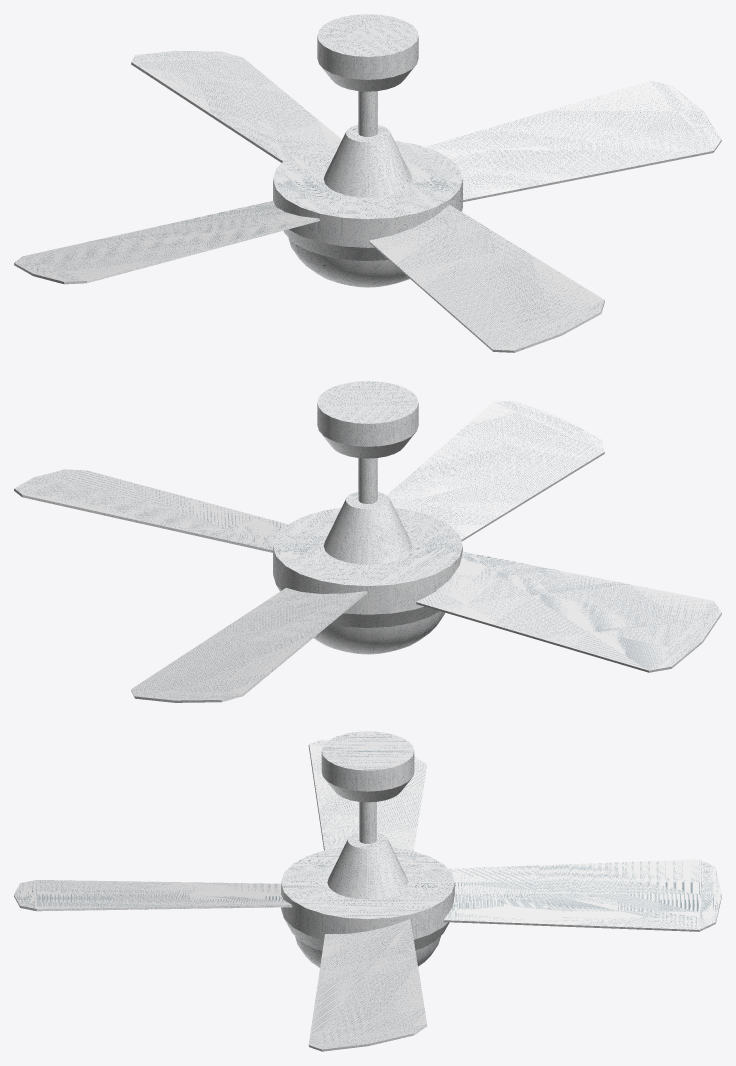
The picture shows the model from 3 angles, top to bottom: view 1: azimuth 30°, elevation 25°; view 2: azimuth 150°, elevation 25°; view 3: azimuth 270°, elevation 25°; orthographic projection. The views are drawn at different scales.
Parts seen in each view (by area): view 1: Group_108 (×4), group_1 (×4), group_0; view 2: Group_108 (×4), group_1 (×4), group_0; view 3: Group_108 (×4), group_1 (×4), group_0.
Boxes of the visible parts, x1,y1,x2,y2 form: Group_108 (×4): [14, 50, 721, 352]; group_1 (×4): [273, 14, 462, 260]; group_0: [288, 238, 409, 287]; Group_108 (×4): [14, 401, 721, 702]; group_1 (×4): [273, 381, 462, 627]; group_0: [313, 611, 444, 654]; Group_108 (×4): [14, 739, 721, 1051]; group_1 (×4): [281, 731, 454, 950]; group_0: [295, 936, 440, 967].
Size of the model in its own units: 48.03 by 48.03 by 16.57.
